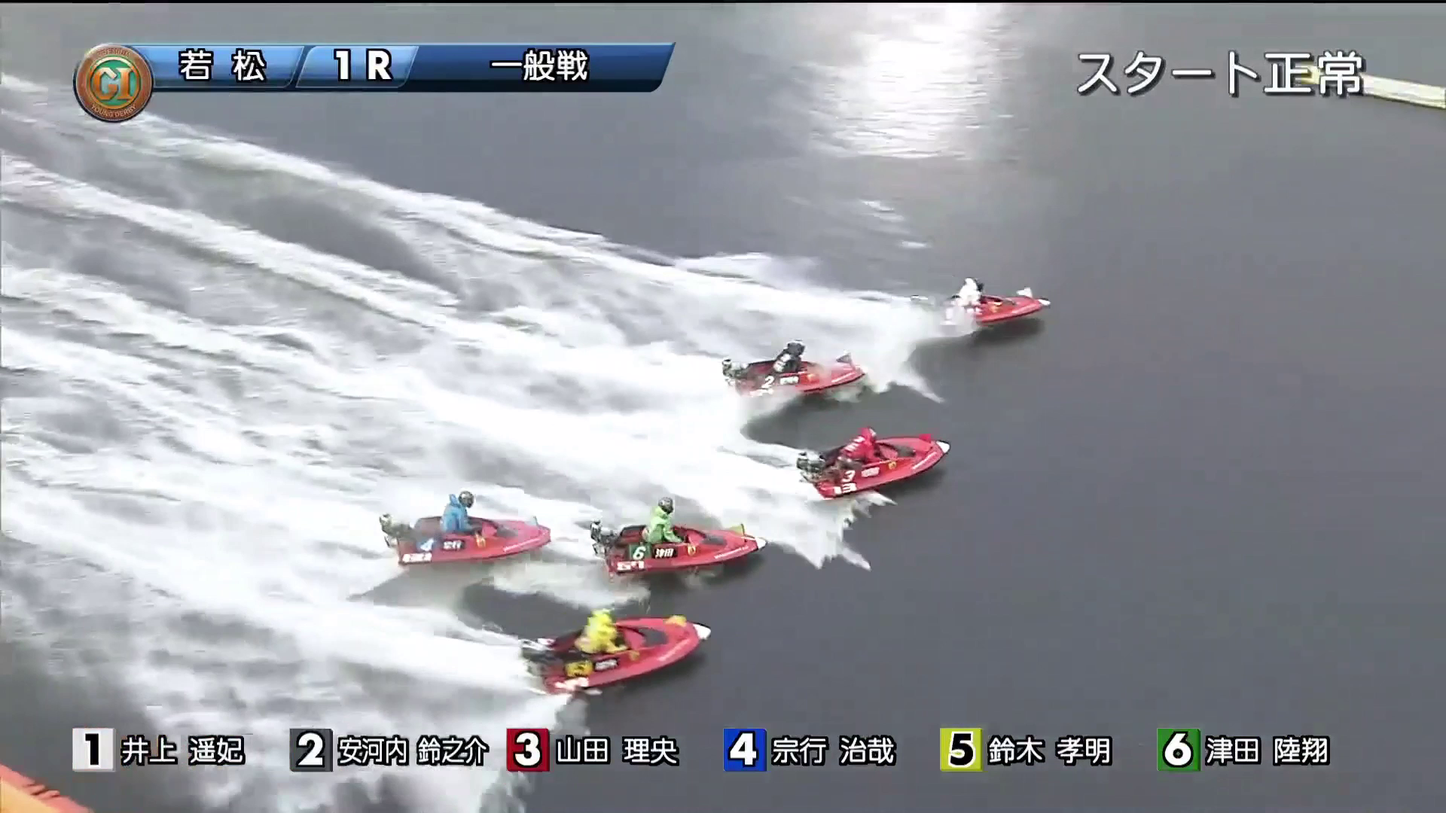１号艇: (940, 283, 1077, 336)
２号艇: (732, 344, 860, 404)
３号艇: (823, 438, 963, 485)
４号艇: (619, 508, 739, 573)
５号艇: (396, 514, 520, 569)
６号艇: (584, 628, 684, 684)
